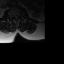CCS_stenosis: (15, 13, 17, 20)
LFS_severe_stenosis: (18, 13, 20, 18)
LLS_stenosis: (17, 13, 18, 19)
RFS_stenosis: (12, 13, 14, 18)
RLS_stenosis: (14, 13, 15, 18)
